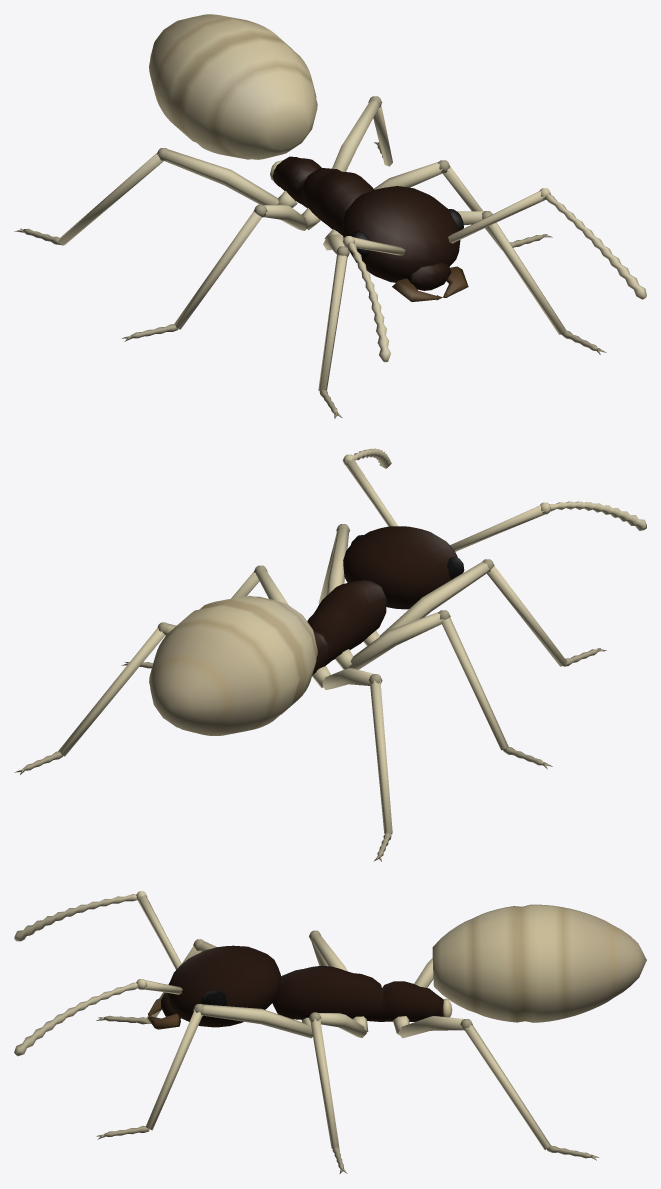
The model's file is GhostAnt.fbx.
3 renders of one model, top to bottom at view 1: azimuth 30°, elevation 25°; view 2: azimuth 150°, elevation 25°; view 3: azimuth 270°, elevation 25°, orthographic. The views are drawn at different scales.
Parts seen in each view (by area): view 1: GhostAnt; view 2: GhostAnt; view 3: GhostAnt.
Boxes of the visible parts, x1=… form: GhostAnt: x1=14, y1=14, x2=646, y2=418; GhostAnt: x1=14, y1=448, x2=646, y2=861; GhostAnt: x1=14, y1=891, x2=646, y2=1173.
Bounding box in the file's own units: 0.8922 × 0.362 × 1.24.
